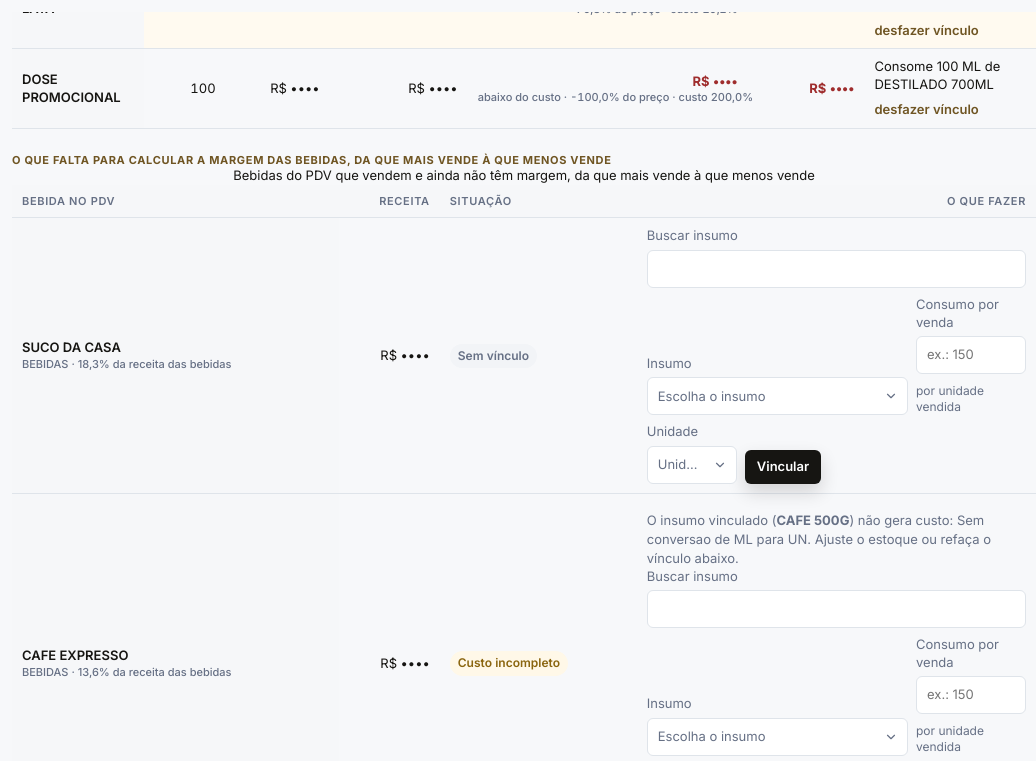
it: MargemBebidasPanel: o que falta › quantidade invalida (vazio): erro anunciado e nao grava
(page scrolled)
Select "POLPA DE FRUTA 1KG (UN)" in the dropdown named "Insumo comprado para SUCO DA CASA": (777, 396) [647,377,908,415]
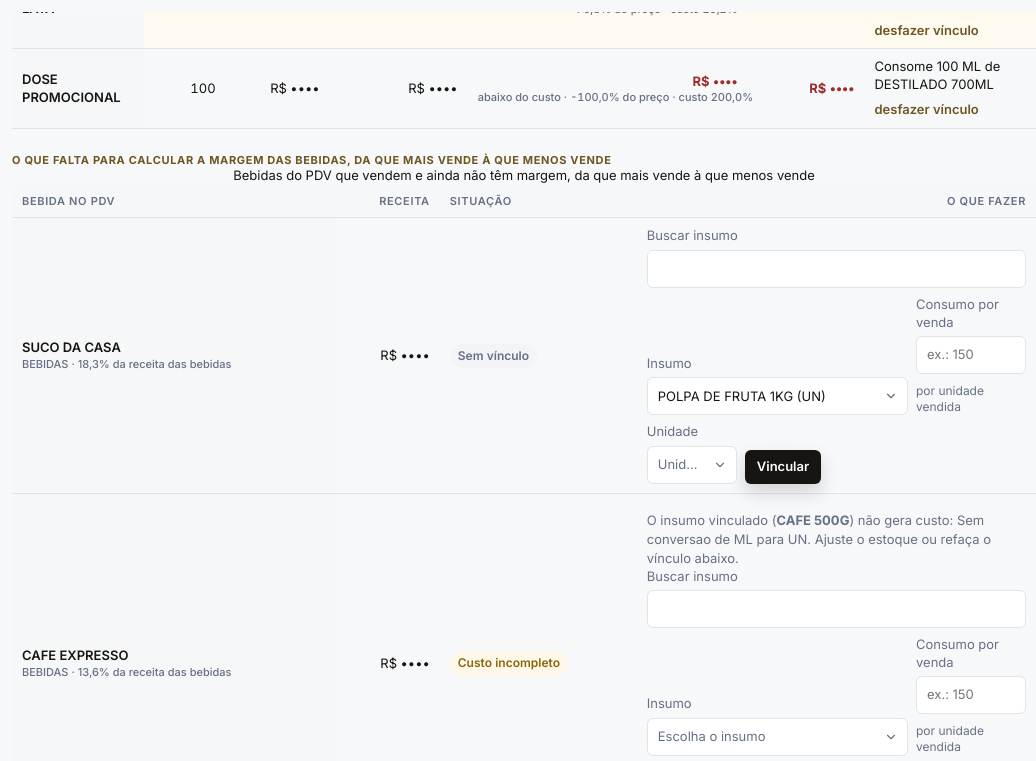
Select "UN" in the dropdown named "Unidade do consumo de SUCO DA CASA": (692, 465) [647,446,737,484]
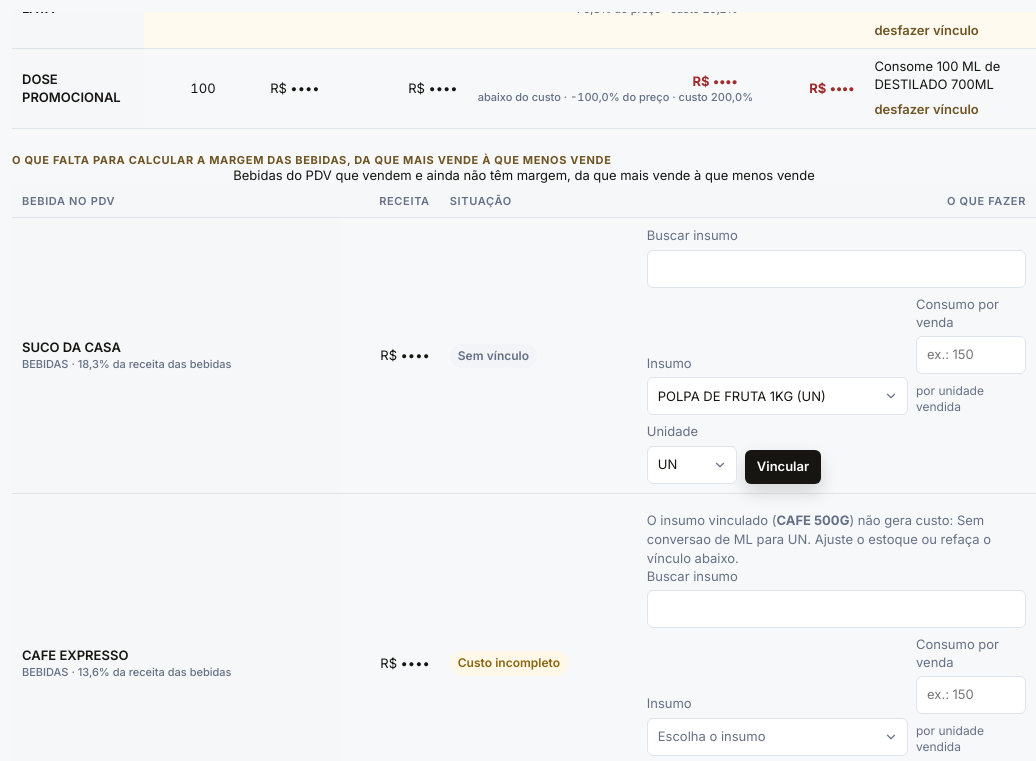
Click the button with aria-label "Vincular SUCO DA CASA": click(783, 467) [745,450,821,484]
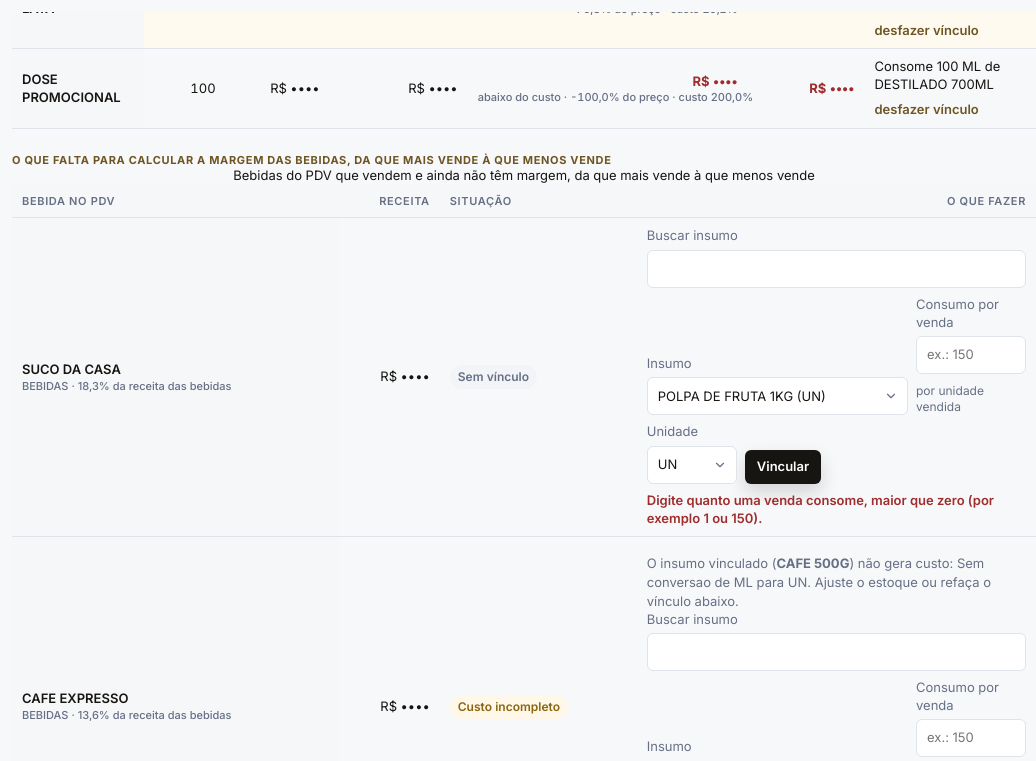
Check: the message shows "maior que zero", box [647,492,994,526]
